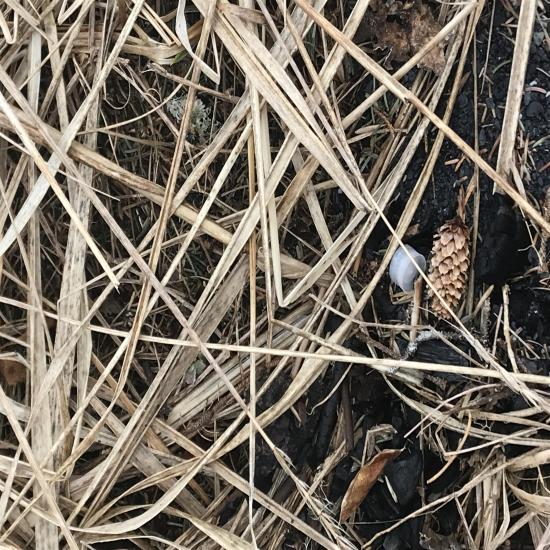Plastic bottle cap: (193, 519, 230, 550)
